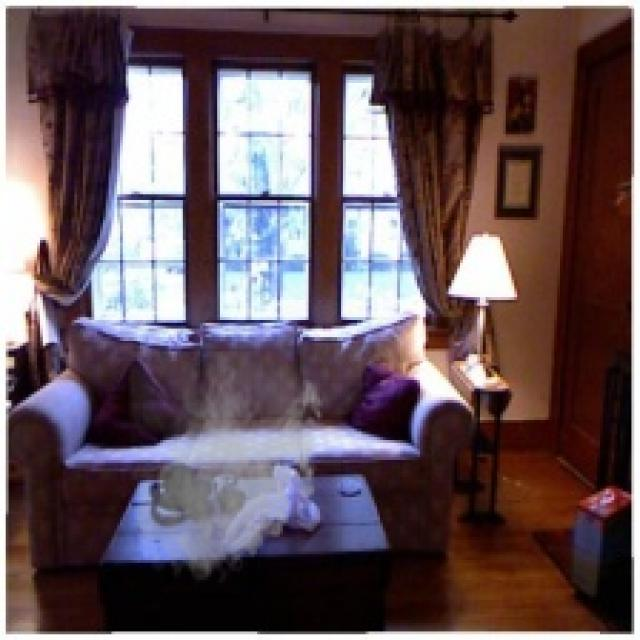smoke: (128, 352, 328, 588)
